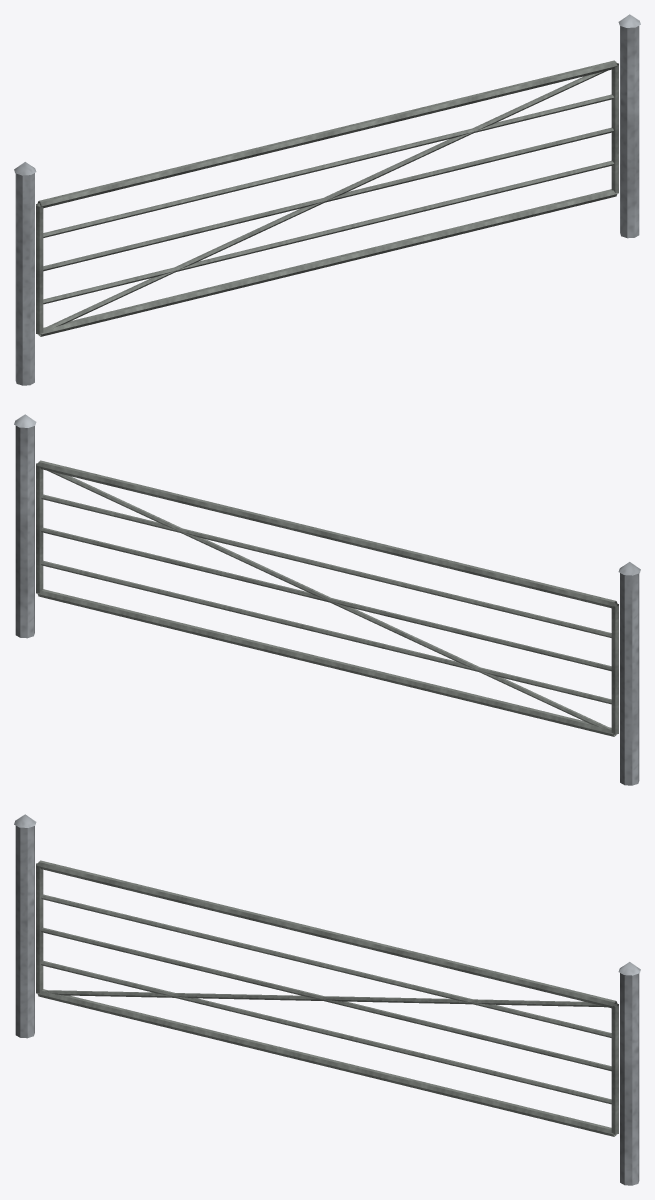
Rendered from gate_4m.glb.
The picture shows the model from 3 angles, top to bottom: view 1: azimuth 30°, elevation 25°; view 2: azimuth 150°, elevation 25°; view 3: azimuth 330°, elevation 25°; orthographic projection.
Visible parts, largest first — view 1: gate_4m; view 2: gate_4m; view 3: gate_4m.
Boxes of the visible parts, x1,y1,x2,y2 form: gate_4m: (14,14,640,385); gate_4m: (14,414,640,785); gate_4m: (14,814,640,1185).
Bounding box in the file's own units: 4.34 × 1.46 × 0.14.
2 materials, 2 textured.
